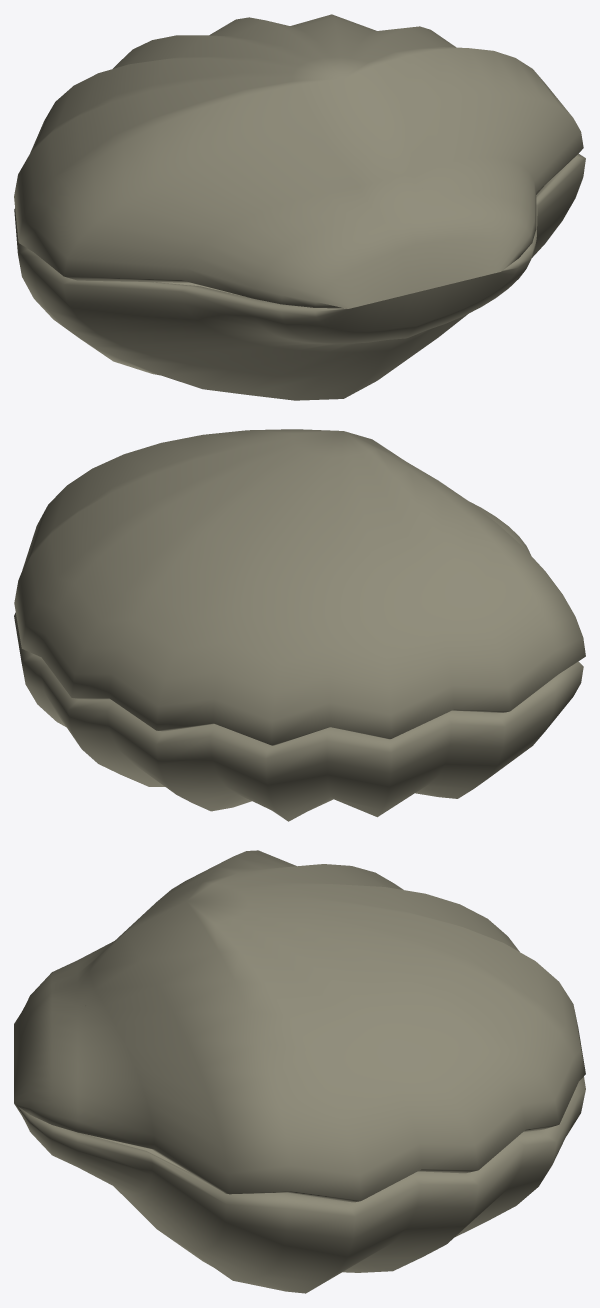
The model's file is GiantClam.fbx.
3 renders of one model, top to bottom at view 1: azimuth 30°, elevation 25°; view 2: azimuth 150°, elevation 25°; view 3: azimuth 270°, elevation 25°, orthographic. The views are drawn at different scales.
Visible parts, largest first — view 1: clamTop, clamBottom; view 2: clamTop, clamBottom; view 3: clamTop, clamBottom.
Boxes of the visible parts, x1=… form: clamTop: x1=14, y1=14, x2=583, y2=308; clamBottom: x1=14, y1=153, x2=585, y2=400; clamTop: x1=14, y1=429, x2=585, y2=745; clamBottom: x1=14, y1=612, x2=583, y2=821; clamTop: x1=14, y1=850, x2=585, y2=1202; clamBottom: x1=14, y1=1076, x2=585, y2=1293.
Bounding box in the file's own units: 146 × 85.41 × 130.
